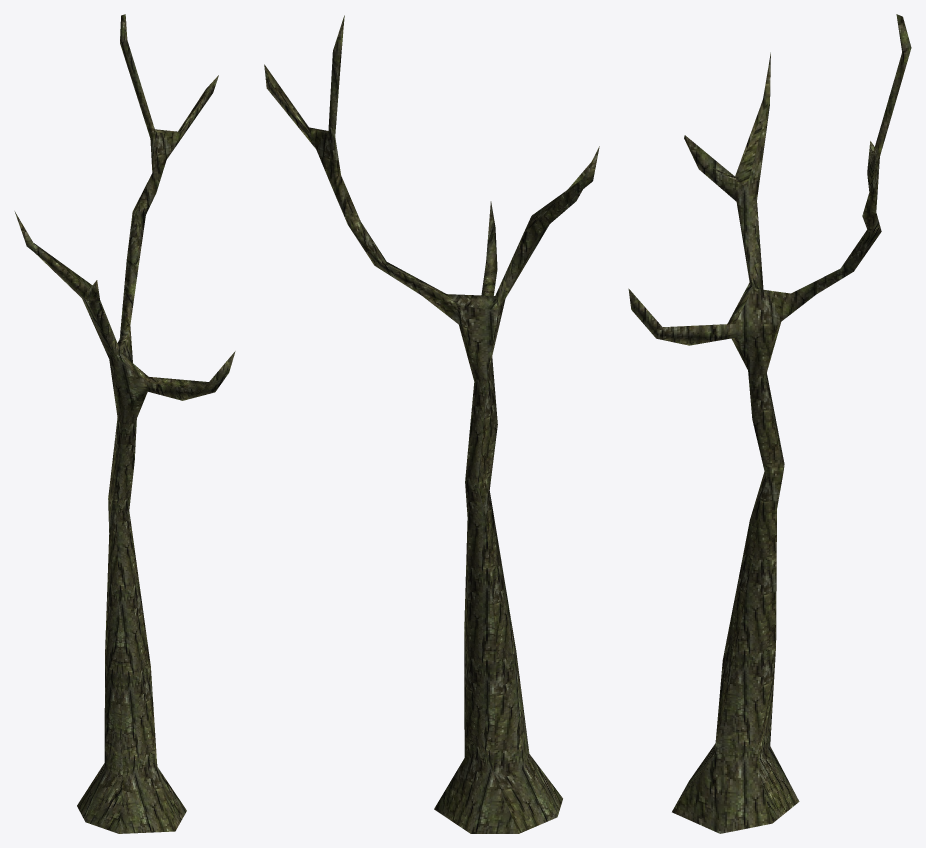
The model's file is tree_dead_3.glb.
The picture shows the model from 3 angles, left to right: view 1: azimuth 30°, elevation 25°; view 2: azimuth 150°, elevation 25°; view 3: azimuth 270°, elevation 25°; orthographic projection. The views are drawn at different scales.
Visible parts, largest first — view 1: tree_dead_3; view 2: tree_dead_3; view 3: tree_dead_3.
Part boxes in pixels (x1=…): tree_dead_3: x1=14, y1=14, x2=235, y2=833; tree_dead_3: x1=264, y1=15, x2=599, y2=833; tree_dead_3: x1=628, y1=14, x2=911, y2=833.
Bounding box in the file's own units: 2.93 × 8.27 × 2.56.
1 material, 1 textured.
